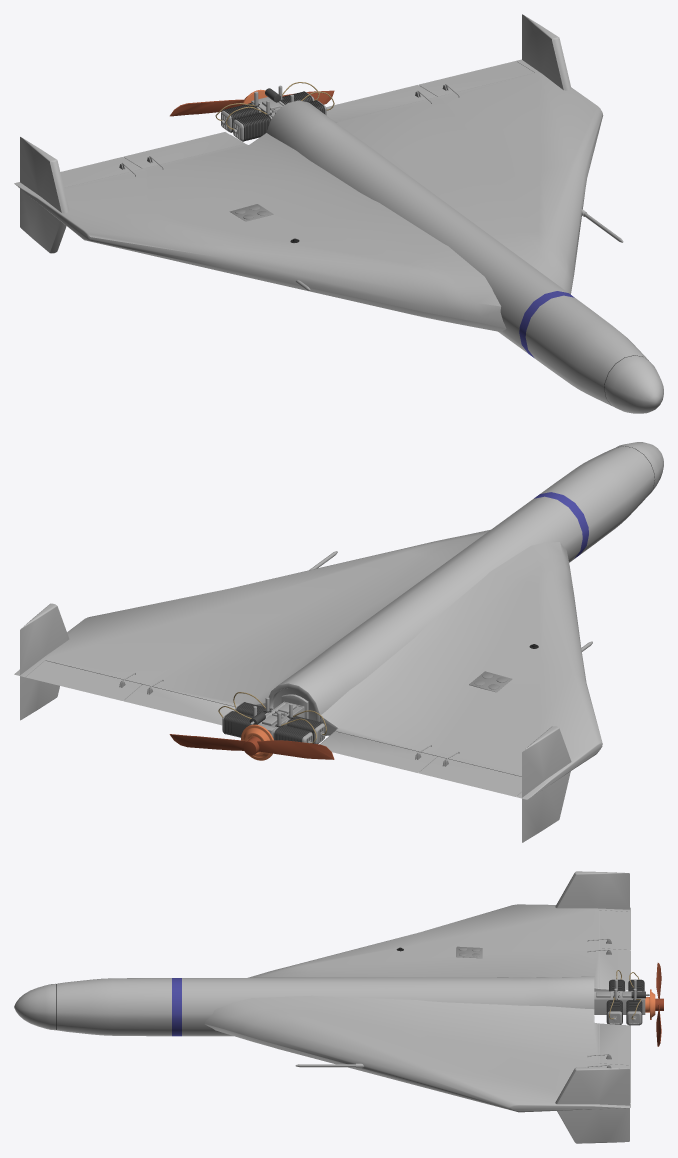
Rendered from shahed_136_faintastic18.glb.
3 renders of one model, top to bottom at view 1: azimuth 30°, elevation 25°; view 2: azimuth 150°, elevation 25°; view 3: azimuth 270°, elevation 25°, orthographic. The views are drawn at different scales.
Parts seen in each view (by area): view 1: Utama, Mesin, Baling baling, Komponen; view 2: Utama, Mesin, Baling baling, Komponen; view 3: Utama, Mesin, Komponen, Baling baling.
Part boxes in pixels (x1=…): Utama: x1=14, y1=14, x2=663, y2=413; Mesin: x1=215, y1=82, x2=334, y2=141; Baling baling: x1=170, y1=89, x2=334, y2=116; Komponen: x1=119, y1=84, x2=623, y2=290; Utama: x1=14, y1=442, x2=663, y2=842; Mesin: x1=218, y1=692, x2=326, y2=743; Baling baling: x1=169, y1=724, x2=334, y2=760; Komponen: x1=119, y1=551, x2=592, y2=766; Utama: x1=14, y1=871, x2=630, y2=1143; Mesin: x1=594, y1=970, x2=649, y2=1025; Komponen: x1=295, y1=938, x2=611, y2=1068; Baling baling: x1=645, y1=963, x2=663, y2=1046.
Bounding box in the file's own units: 1.76 × 0.3036 × 2.41.
